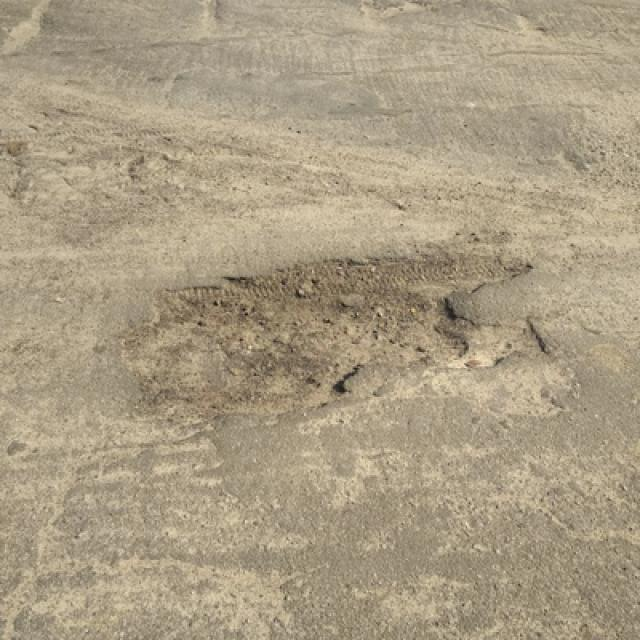Pothole: (115, 245, 550, 429)
